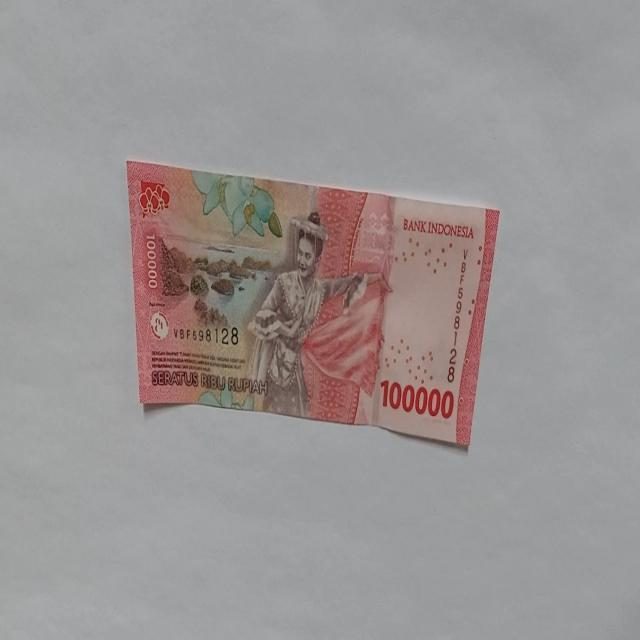seratus ribu rupiah: (126, 158, 500, 451), (244, 210, 380, 422)
